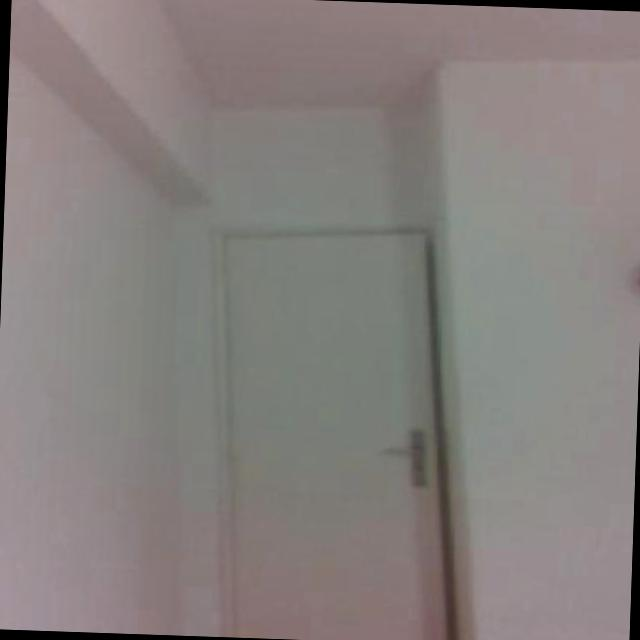door: (198, 219, 475, 640)
